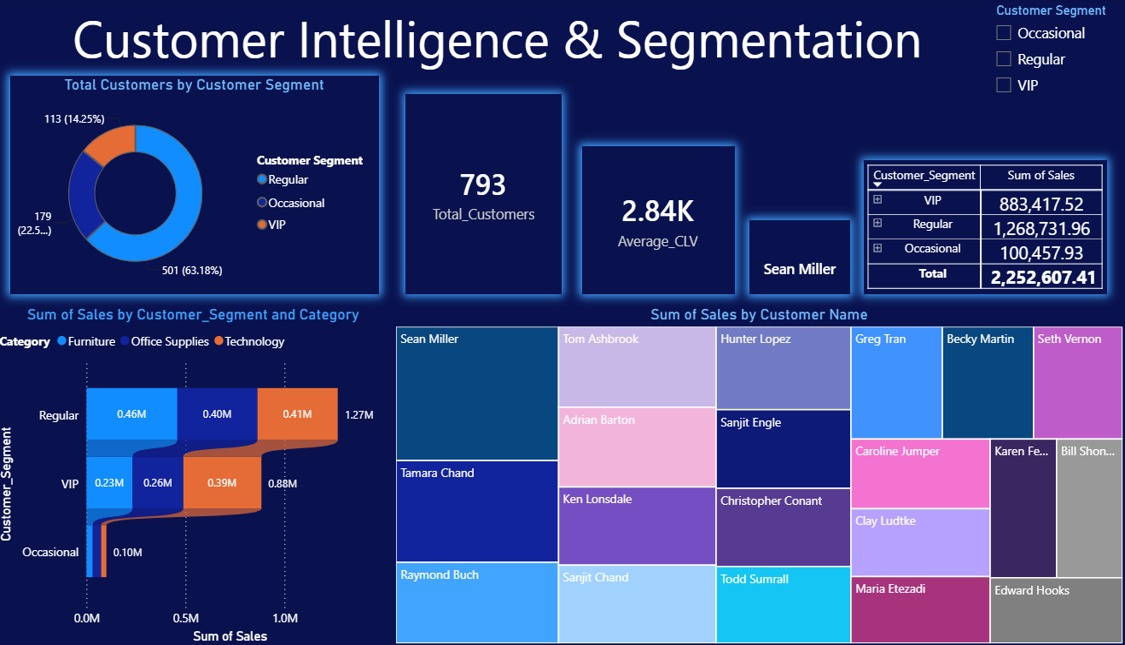

Layout of this report page (visuals, bound fields, positions):
{"tool":"powerbi","page":{"name":"Marketing & Customer Analytics","canvas":[1280,720],"ordinal":1},"visuals":[{"type":"cardVisual","fields":{"Data":["Cleaned_Data.Total_Customers"]},"box":[464.5,106.2,176.1,222],"z":0},{"type":"cardVisual","fields":{"Data":["Cleaned_Data.Average_CLV"]},"box":[663.5,164.1,172.5,164.1],"z":1000},{"type":"cardVisual","fields":{"Rows":["Cleaned_Data.Customer Name"]},"box":[853,246.1,114.6,82],"z":2000},{"type":"donutChart","title":"Total Customers by Customer Segment","fields":{"Category":["Cleaned_Data.Customer_Segment"],"Y":["Cleaned_Data.Total_Customers"]},"box":[16.9,85.7,417.4,242.5],"z":3000},{"type":"treemap","fields":{"Group":["Cleaned_Data.Customer Name"],"Values":["Sum(Cleaned_Data.Sales)"]},"box":[448.8,340,831.2,380],"z":4000},{"type":"slicer","fields":{"Values":["Cleaned_Data.Customer_Segment"]},"box":[1119.6,0,160.5,164.1],"z":5000},{"type":"barChart","fields":{"Category":["Cleaned_Data.Customer_Segment"],"Y":["Sum(Cleaned_Data.Sales)"],"Series":["Cleaned_Data.Category"]},"box":[0,340,448.8,380],"z":6000},{"type":"pivotTable","fields":{"Rows":["Cleaned_Data.Customer_Segment","Cleaned_Data.Sub-Category"],"Values":["Sum(Cleaned_Data.Sales)"]},"box":[982,179.8,275.1,148.4],"z":7000},{"type":"textbox","box":[31.4,0,1073.7,107.4],"z":7001}]}

Visuals, with their boxes in screenshot pixels (x1, y1, x2, y2), scaled from the page's 1280x720 canvas onto the 1125x645 screenshot:
cardVisual - Cleaned_Data.Total_Customers: <region>408, 95, 563, 294</region>
cardVisual - Cleaned_Data.Average_CLV: <region>583, 147, 735, 294</region>
cardVisual - Cleaned_Data.Customer Name: <region>750, 220, 850, 294</region>
"Total Customers by Customer Segment" donutChart: <region>15, 77, 382, 294</region>
treemap - Cleaned_Data.Customer Name x Sum(Cleaned_Data.Sales): <region>394, 305, 1124, 644</region>
slicer - Cleaned_Data.Customer_Segment: <region>984, 0, 1124, 147</region>
barChart - Cleaned_Data.Customer_Segment x Sum(Cleaned_Data.Sales): <region>0, 305, 394, 644</region>
pivotTable - Cleaned_Data.Customer_Segment x Cleaned_Data.Sub-Category: <region>863, 161, 1105, 294</region>
textbox: <region>28, 0, 971, 96</region>
